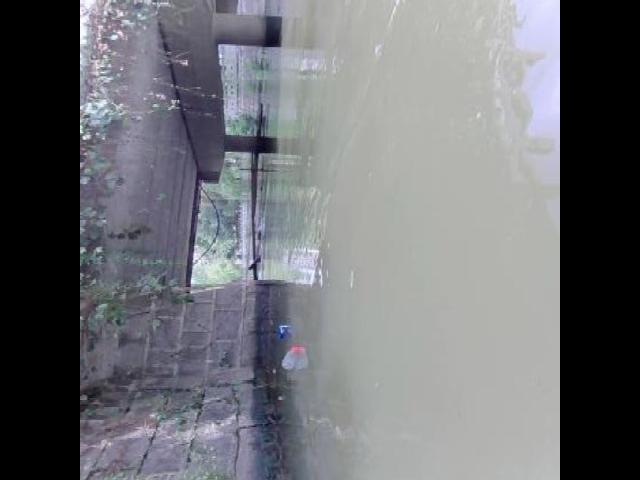Bottle: (281, 341, 305, 370)
